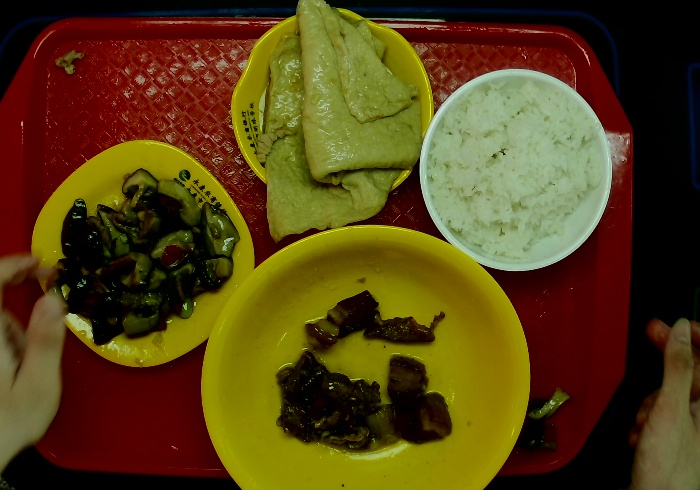YKMZ-Fan_Wan: (415, 59, 617, 277)
YKMZ-Huang_Se_Ao_Bian_Wan: (224, 6, 438, 219)
YKMZ-Huang_Se_Fang_Die: (28, 137, 263, 371)
YKMZ-Huang_Se_Tang_Wan: (195, 218, 536, 490)
